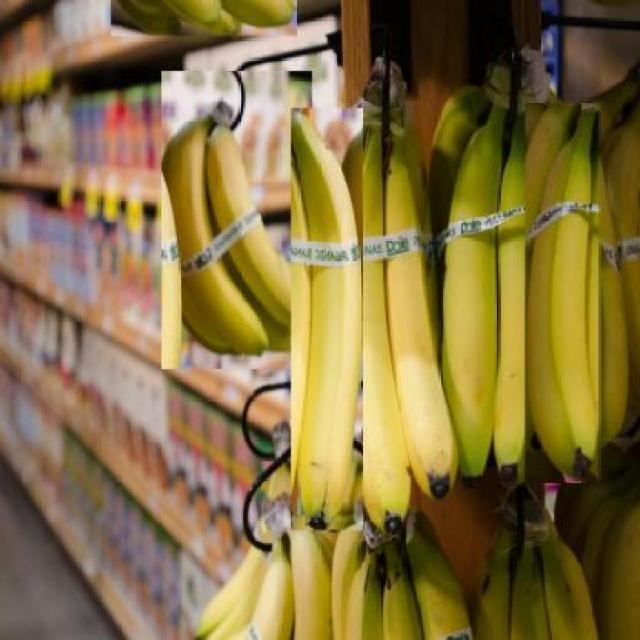Banana: (333, 58, 458, 514), (428, 49, 535, 479), (528, 64, 635, 493), (160, 72, 312, 370), (475, 485, 604, 640), (328, 519, 464, 640), (114, 0, 298, 43)
